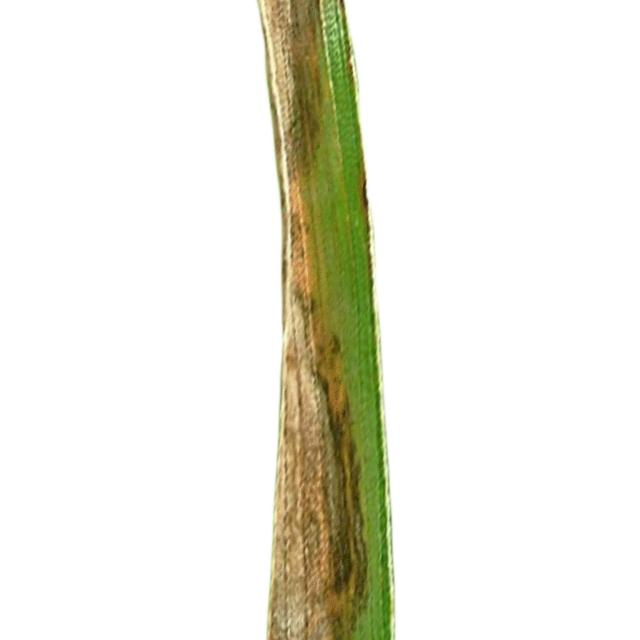Leaf scald: (125, 0, 440, 640)
